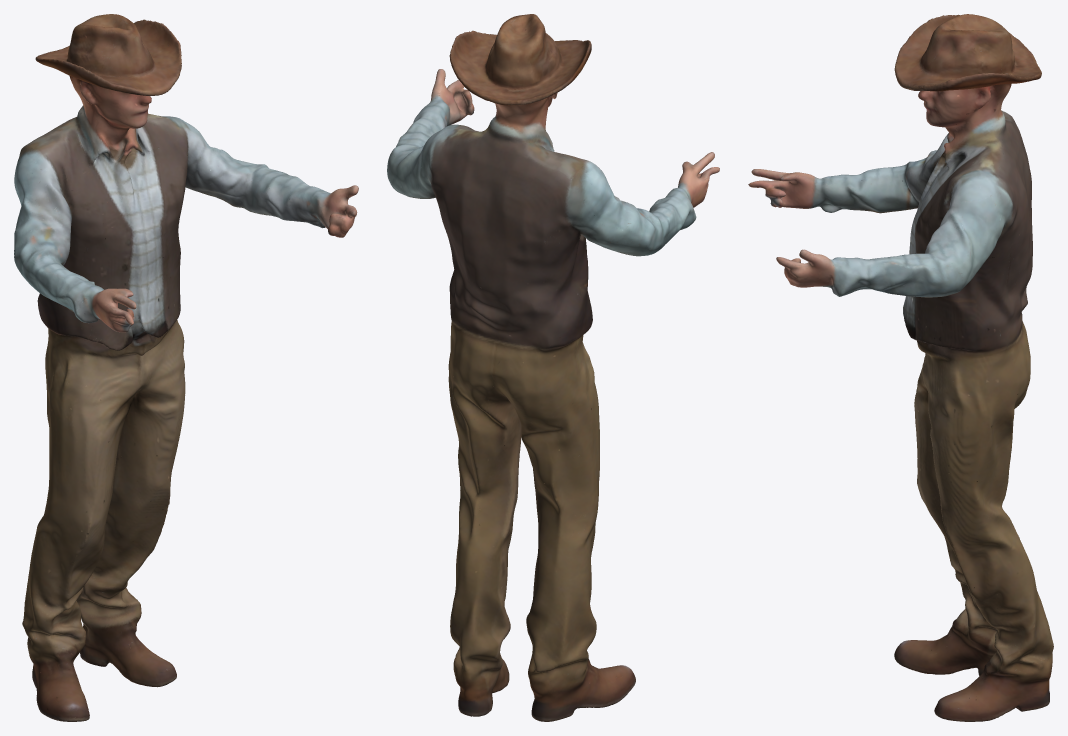
The model's file is ZIPC1.glb.
The picture shows the model from 3 angles, left to right: view 1: azimuth 30°, elevation 25°; view 2: azimuth 150°, elevation 25°; view 3: azimuth 270°, elevation 25°; orthographic projection.
Bounding box in the file's own units: 0.8743 × 2 × 0.822.
Materials: 1 (1 with a texture image).
